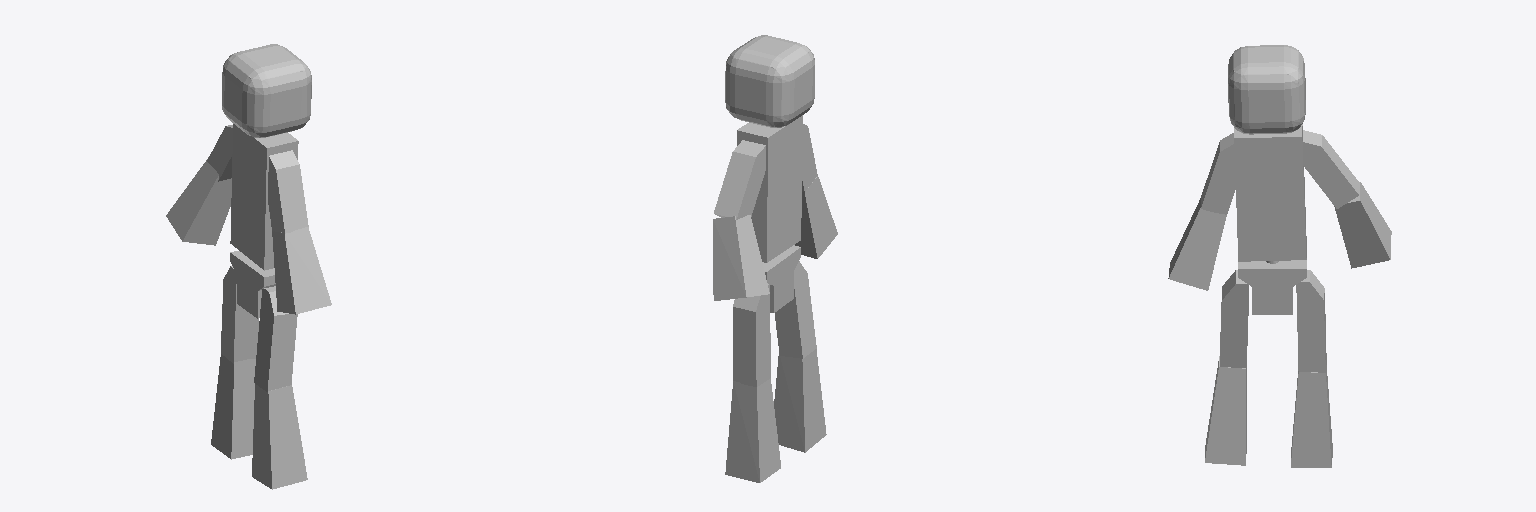
File: Stickman1.obj
3 views of the same model, side by side, from view 1: azimuth 30°, elevation 25°; view 2: azimuth 150°, elevation 25°; view 3: azimuth 270°, elevation 25° (orthographic).
Parts seen in each view (by area): view 1: Mball, Cube.005, Cube, Cube.008, Cube.002, Cube.006, Cube.003, Cube.009, Cube.001, Cube.004, Cube.007; view 2: Mball, Cube.005, Cube.002, Cube, Cube.006, Cube.001, Cube.007, Cube.003, Cube.008, Cube.004, Cube.009; view 3: Cube.005, Mball, Cube, Cube.002, Cube.008, Cube.006, Cube.004, Cube.001, Cube.007, Cube.003, Cube.009.
Part boxes in pixels (x1,y1,x2,y2): Mball: (222, 44, 311, 137); Cube.005: (230, 124, 298, 270); Cube: (252, 384, 307, 489); Cube.008: (272, 227, 331, 314); Cube.002: (211, 354, 255, 459); Cube.006: (166, 157, 231, 245); Cube.003: (254, 286, 297, 391); Cube.009: (268, 150, 308, 233); Cube.001: (221, 266, 258, 363); Cube.004: (230, 251, 275, 318); Cube.007: (207, 125, 232, 181); Mball: (725, 35, 814, 127); Cube.005: (737, 115, 802, 262); Cube.002: (725, 378, 780, 482); Cube: (774, 349, 826, 452); Cube.006: (713, 215, 769, 300); Cube.001: (733, 283, 770, 386); Cube.007: (714, 140, 765, 219); Cube.003: (775, 261, 816, 358); Cube.008: (795, 176, 837, 258); Cube.004: (762, 245, 800, 312); Cube.009: (802, 124, 817, 191); Cube.005: (1234, 124, 1306, 261); Mball: (1228, 45, 1305, 134); Cube: (1205, 356, 1246, 465); Cube.002: (1291, 365, 1332, 467); Cube.008: (1168, 198, 1226, 290); Cube.006: (1334, 182, 1391, 268); Cube.004: (1238, 260, 1306, 314); Cube.001: (1296, 270, 1326, 372); Cube.007: (1303, 130, 1359, 208); Cube.003: (1220, 270, 1248, 371); Cube.009: (1201, 133, 1235, 214).
Size of the model in its own units: 2.56 by 13.18 by 6.54.